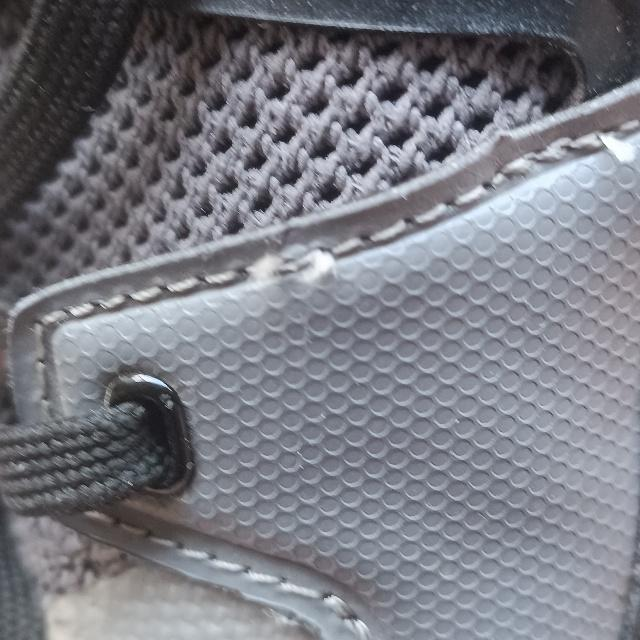broken: (243, 246, 361, 292)
